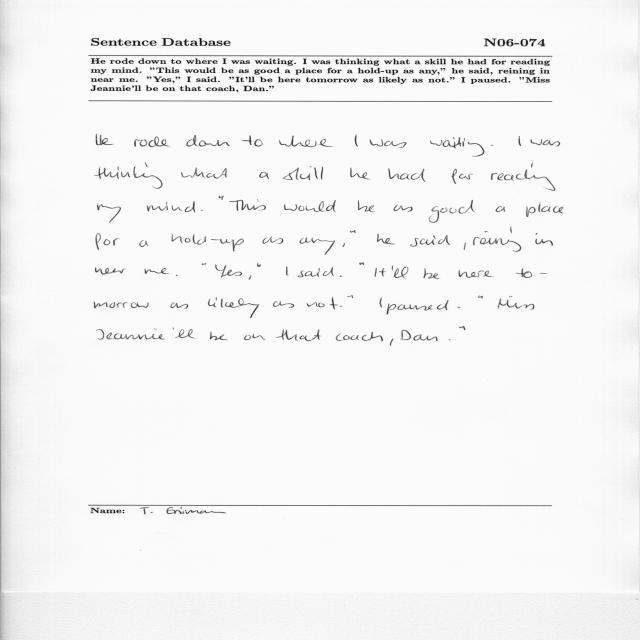word: (491, 163, 555, 191), (95, 163, 163, 189), (171, 234, 244, 251), (473, 227, 521, 252), (430, 137, 484, 157), (208, 297, 259, 318), (429, 200, 475, 223), (387, 300, 449, 314), (97, 329, 165, 340), (284, 200, 336, 212), (300, 238, 336, 255), (279, 136, 332, 147), (147, 201, 195, 213), (526, 202, 564, 217), (283, 166, 323, 180), (186, 135, 230, 147), (389, 168, 426, 182), (181, 168, 227, 179), (276, 330, 321, 341), (410, 235, 450, 247), (336, 332, 383, 342), (498, 296, 534, 309), (229, 199, 266, 211), (98, 204, 121, 223), (400, 330, 438, 341), (96, 233, 120, 250), (94, 302, 149, 309), (307, 297, 339, 309), (215, 264, 242, 278), (297, 267, 334, 277), (134, 137, 170, 147), (370, 139, 407, 148), (451, 169, 473, 184), (516, 268, 547, 278), (459, 271, 494, 278), (173, 328, 195, 339), (350, 168, 370, 180), (96, 267, 126, 275), (535, 233, 553, 246), (242, 136, 263, 147), (392, 265, 408, 279), (358, 200, 375, 212), (531, 139, 560, 146), (96, 135, 113, 146), (377, 234, 395, 244), (263, 236, 284, 244), (424, 268, 439, 279), (210, 331, 228, 340), (144, 268, 169, 274), (273, 301, 294, 308), (393, 205, 413, 212), (244, 334, 266, 340), (171, 302, 189, 309), (375, 268, 386, 277), (259, 172, 270, 179), (140, 240, 149, 247), (496, 206, 506, 212), (355, 135, 358, 147), (519, 136, 522, 146), (380, 298, 383, 308), (390, 338, 393, 346), (464, 243, 467, 250), (459, 327, 466, 330), (219, 196, 224, 200), (350, 230, 356, 233), (286, 267, 288, 276), (347, 295, 353, 298), (257, 263, 261, 267), (478, 296, 483, 299), (249, 275, 252, 279), (360, 263, 365, 265), (343, 243, 345, 247), (202, 263, 206, 265), (458, 307, 461, 308), (491, 145, 493, 146), (201, 210, 203, 211), (176, 275, 178, 276), (340, 276, 342, 277), (340, 306, 342, 307), (449, 339, 450, 340)
